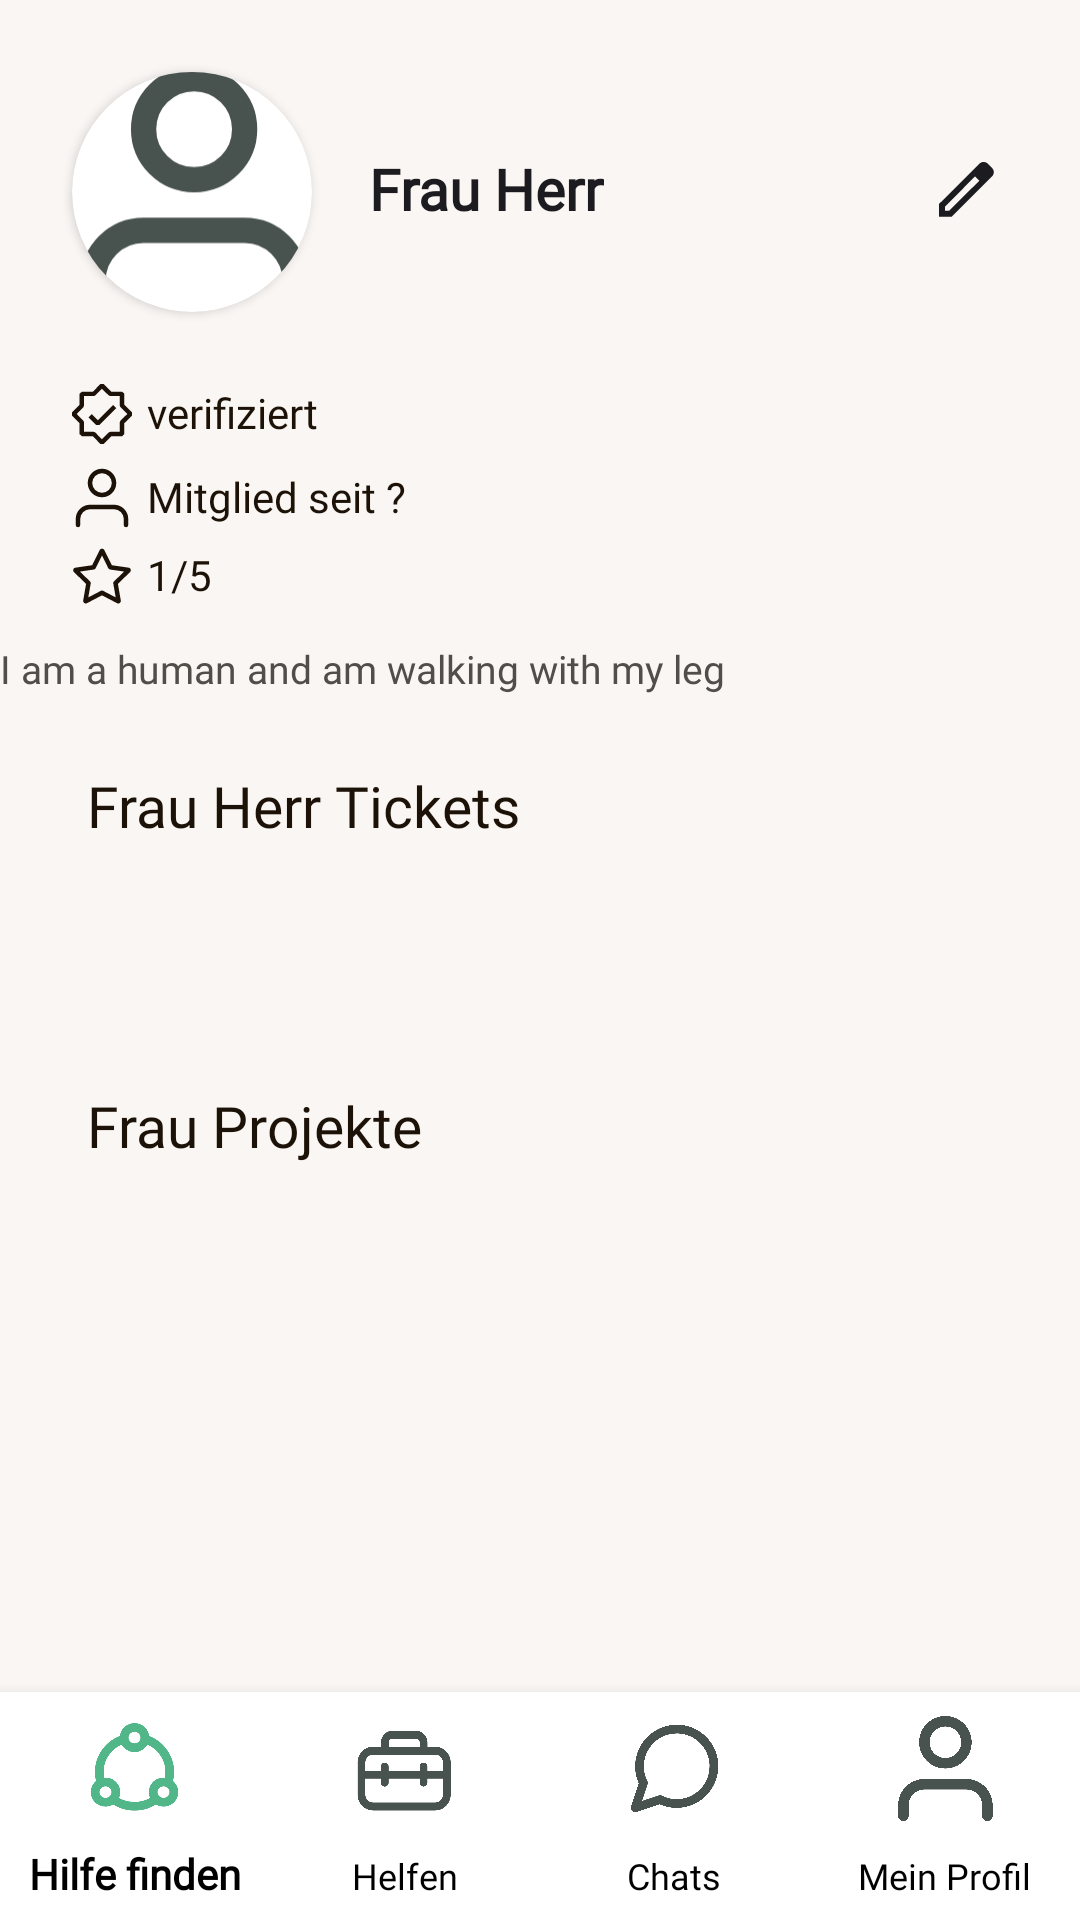

Icon bounding boxes for this 1080w x 1920h phone screenshot, format (x1, y1, x2, y2):
mein profil bearbeiten: (939, 162, 994, 217)
